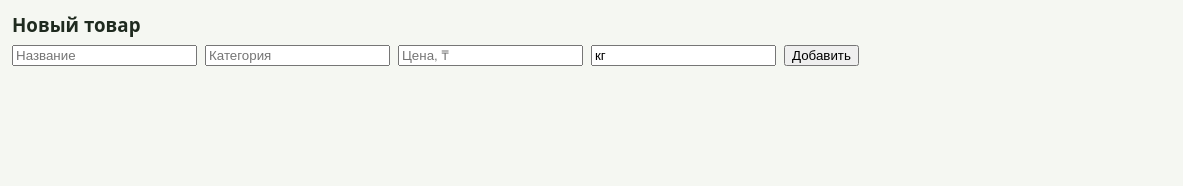
Test case: AddProductForm › ошибка валидации сервера (400 + details) показывается у формы, onAdded не вызывается
Type "Сыр" into the field labelled "Название".
click(104, 56); type("Сыр")  # box x1=12 y1=45 x2=197 y2=66
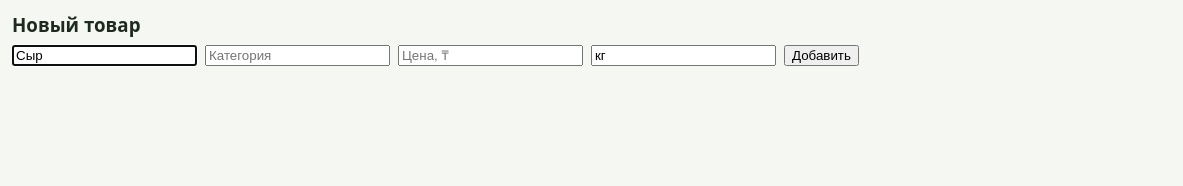
Type "0" into the number field labelled "Цена".
click(490, 56); type("0")  # box x1=398 y1=45 x2=583 y2=66
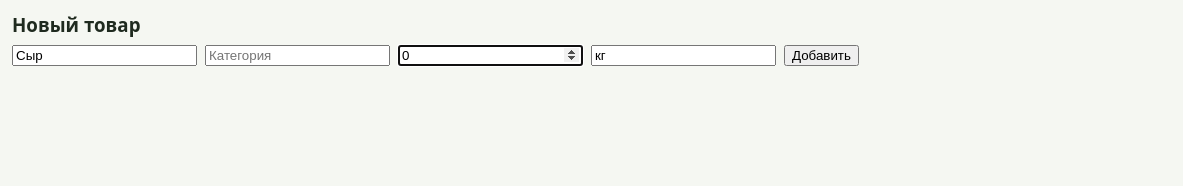
Click the button "Добавить".
click(821, 56)  # box x1=784 y1=45 x2=859 y2=66
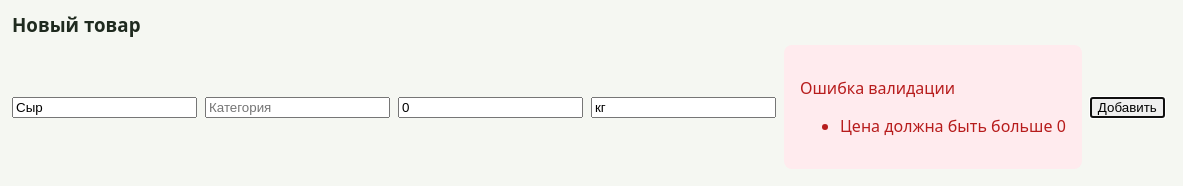
Result: the list item "Цена должна быть больше 0" is shown at x1=840 y1=115 x2=1066 y2=137
